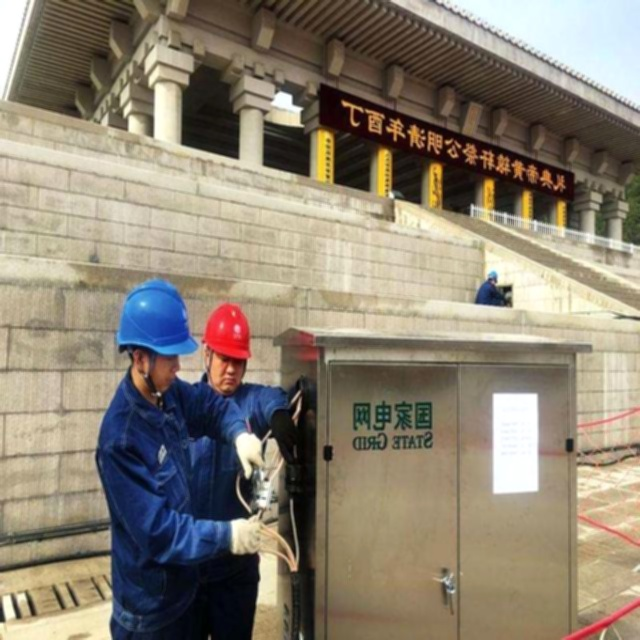Con_Casco: (124, 283, 192, 389), (203, 305, 251, 391)
